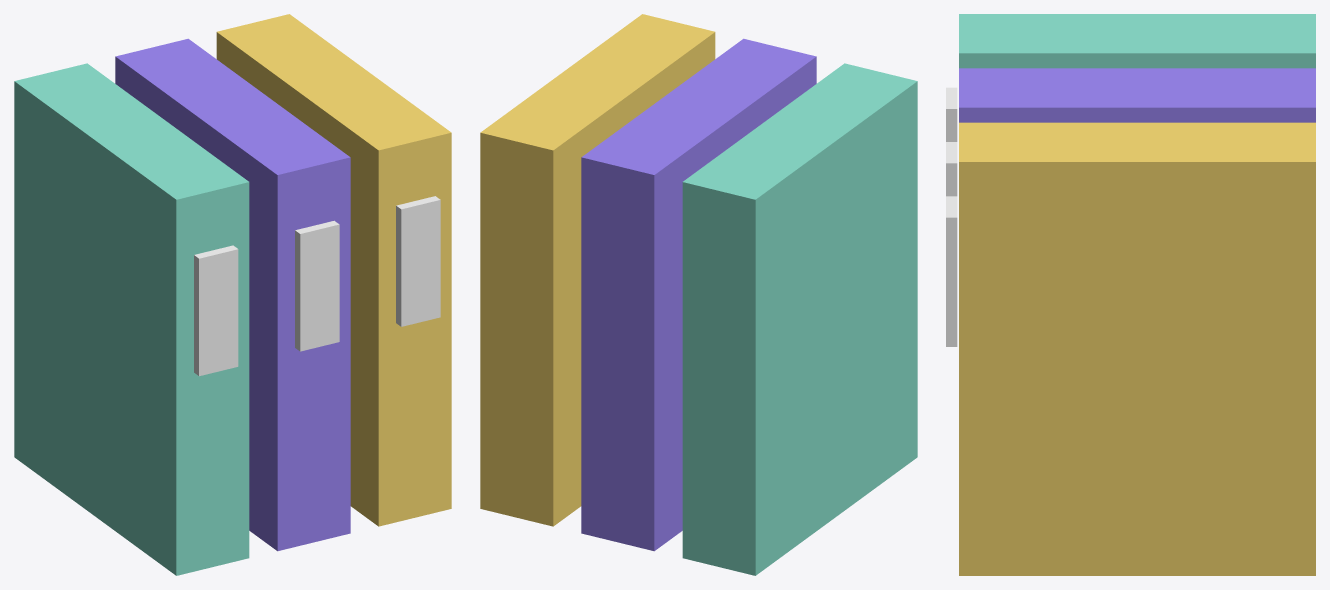
The picture shows the model from 3 angles, left to right: view 1: azimuth 30°, elevation 25°; view 2: azimuth 150°, elevation 25°; view 3: azimuth 270°, elevation 25°; orthographic projection. The views are drawn at different scales.
Parts seen in each view (by area): view 1: File, File.001, File.002, Spine label.001, Spine label.002, Spine label; view 2: File, File.001, File.002; view 3: File.002, File, File.001, Spine label.002, Spine label, Spine label.001.
Boxes of the visible parts, box(x1,y1,x2,y2) form: File: box(14, 63, 249, 575); File.001: box(115, 38, 350, 551); File.002: box(216, 14, 451, 526); Spine label.001: box(295, 220, 339, 351); Spine label.002: box(396, 196, 440, 326); Spine label: box(194, 245, 238, 376); File: box(682, 63, 917, 575); File.001: box(581, 38, 816, 551); File.002: box(480, 14, 715, 526); File.002: box(959, 122, 1315, 575); File: box(959, 14, 1315, 68); File.001: box(959, 68, 1315, 122); Spine label.002: box(946, 196, 957, 346); Spine label: box(946, 87, 957, 141); Spine label.001: box(946, 142, 957, 196).
Size of the model in its own units: 24.5 by 32 by 25.9.
